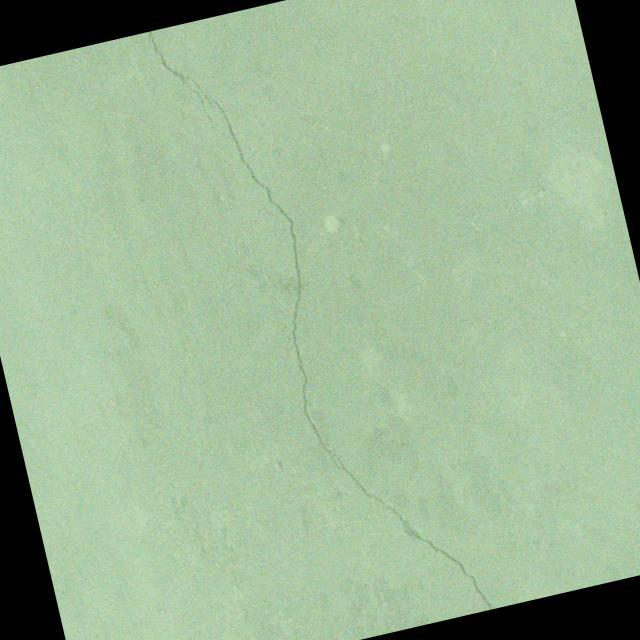crack: (146, 0, 495, 640)
